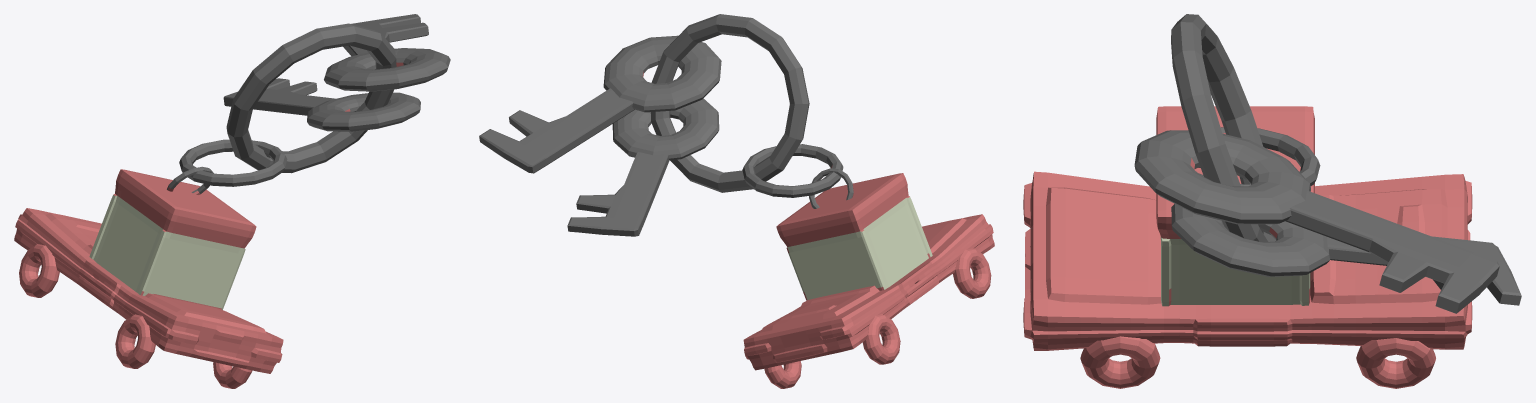
Rendered from f-keys.fbx.
The picture shows the model from 3 angles, left to right: view 1: azimuth 30°, elevation 25°; view 2: azimuth 150°, elevation 25°; view 3: azimuth 270°, elevation 25°; orthographic projection. The views are drawn at different scales.
Parts seen in each view (by area): view 1: Torus.005; view 2: Torus.005; view 3: Torus.005.
Boxes of the visible parts, <box> form: Torus.005: <box>14,14,450,388</box>; Torus.005: <box>479,14,994,388</box>; Torus.005: <box>1023,14,1521,388</box>.
Size of the model in its own units: 46.97 by 33.43 by 33.94.
